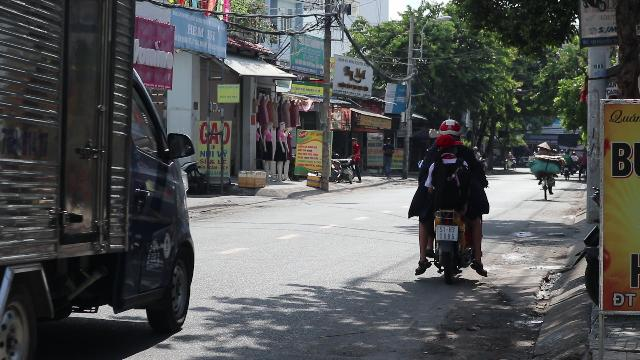helmet: (436, 119, 462, 136)
licenseplate: (437, 226, 458, 241)
motorcyclist: (406, 118, 492, 282)
nohelmet: (434, 134, 464, 156)
